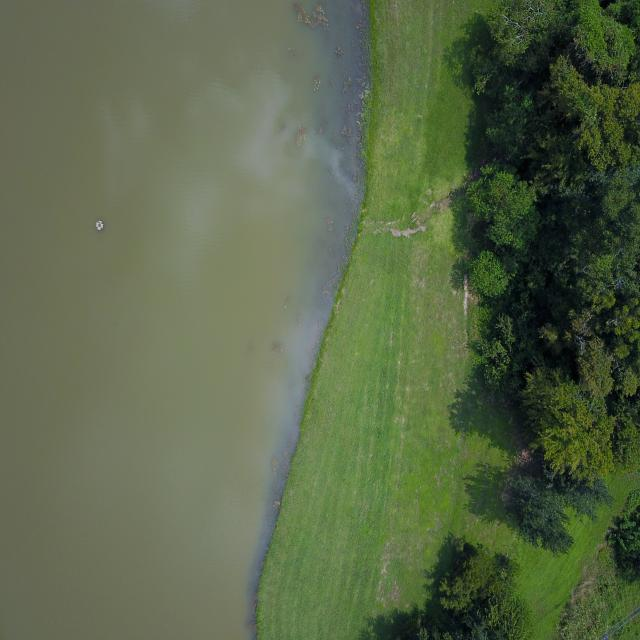fire: (0, 0, 369, 639)
